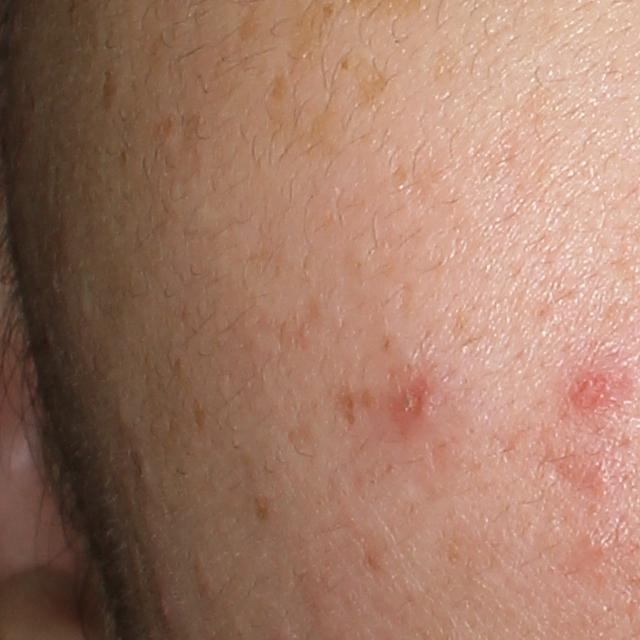melasma: (352, 70, 397, 112)
papule: (573, 365, 625, 405), (154, 587, 179, 625)
